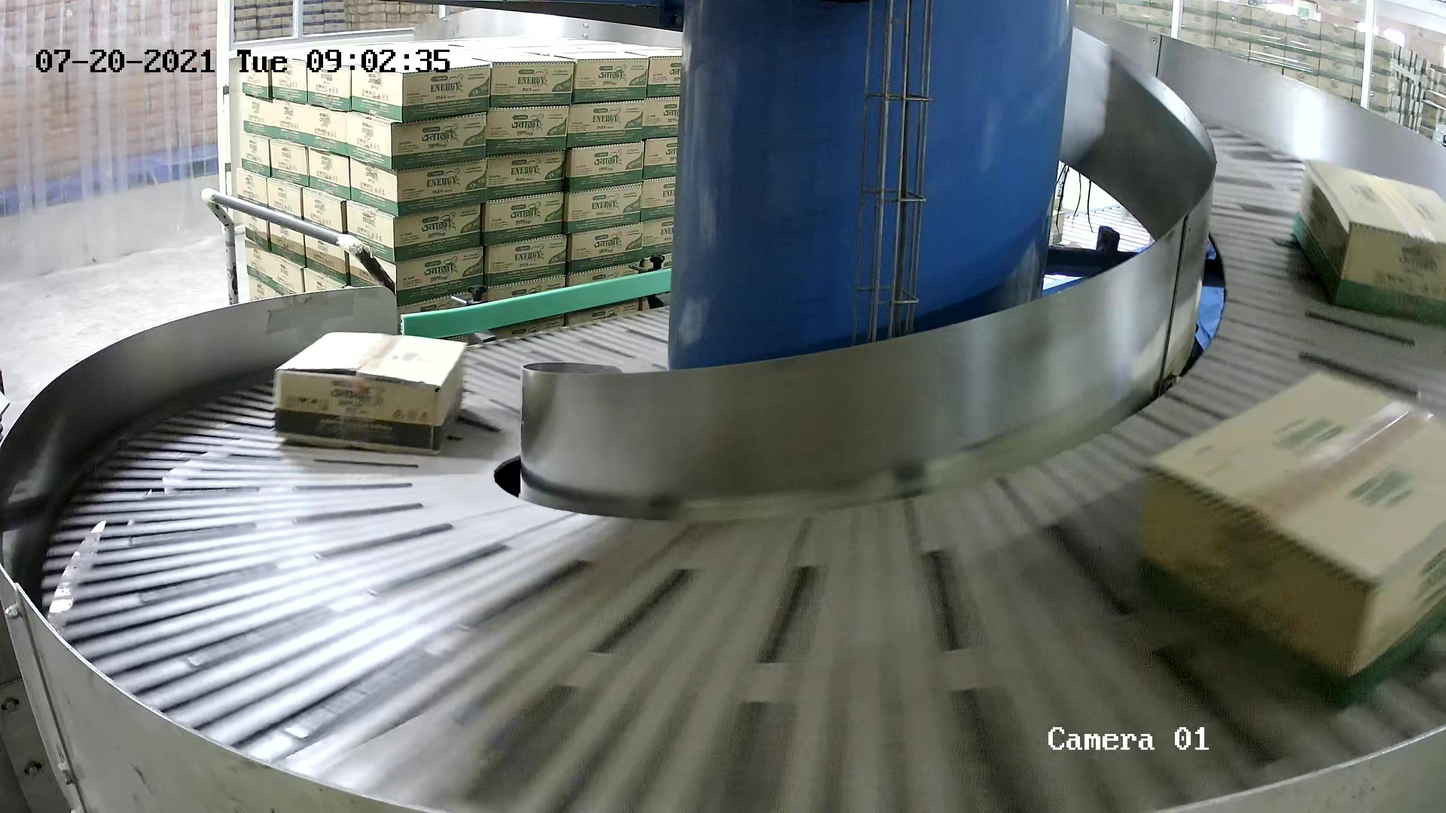Box: (1138, 363, 1446, 714), (1292, 156, 1446, 326), (271, 329, 469, 458)
